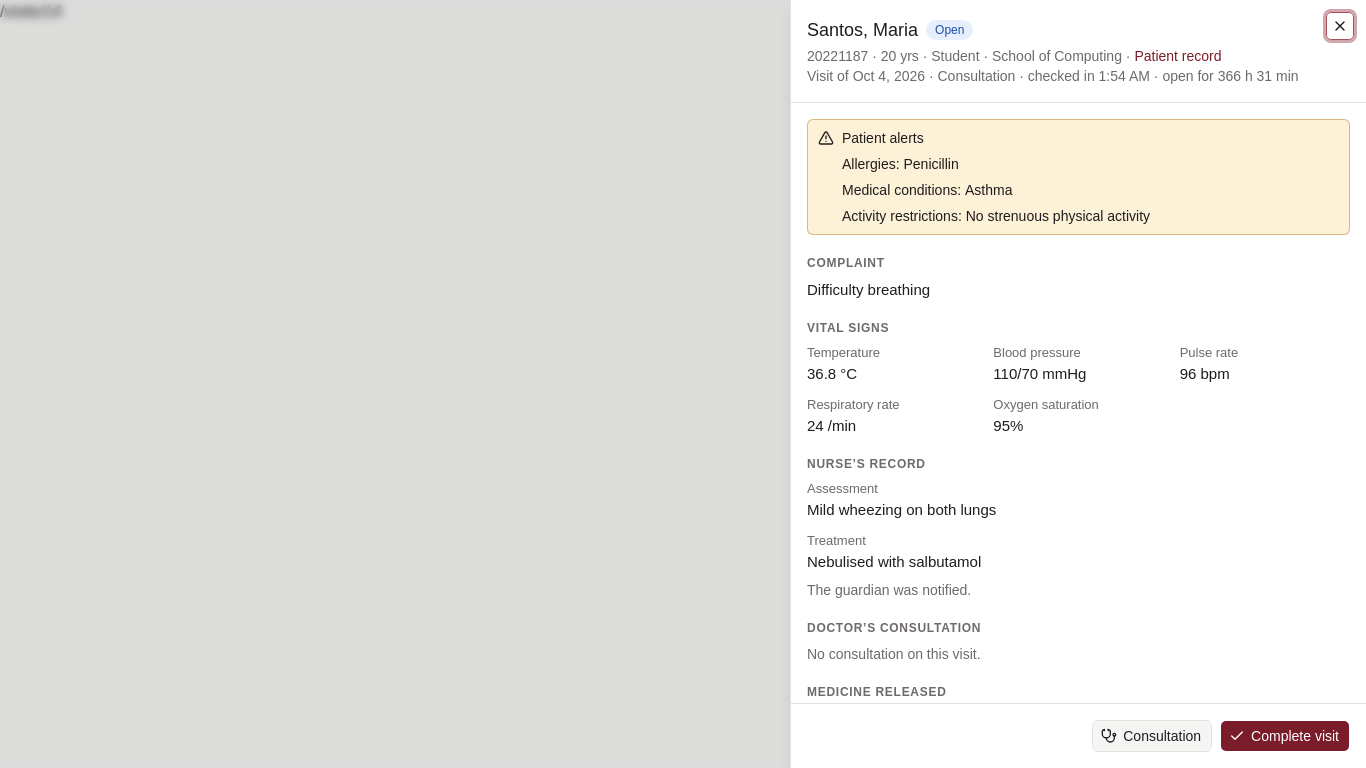
Test: the doctor writes the consultation and cannot edit the nurse’s record
This screenshot has width=1366, height=768.
Click the button "Consultation".
click(1152, 736)  # box [1092,720,1212,752]
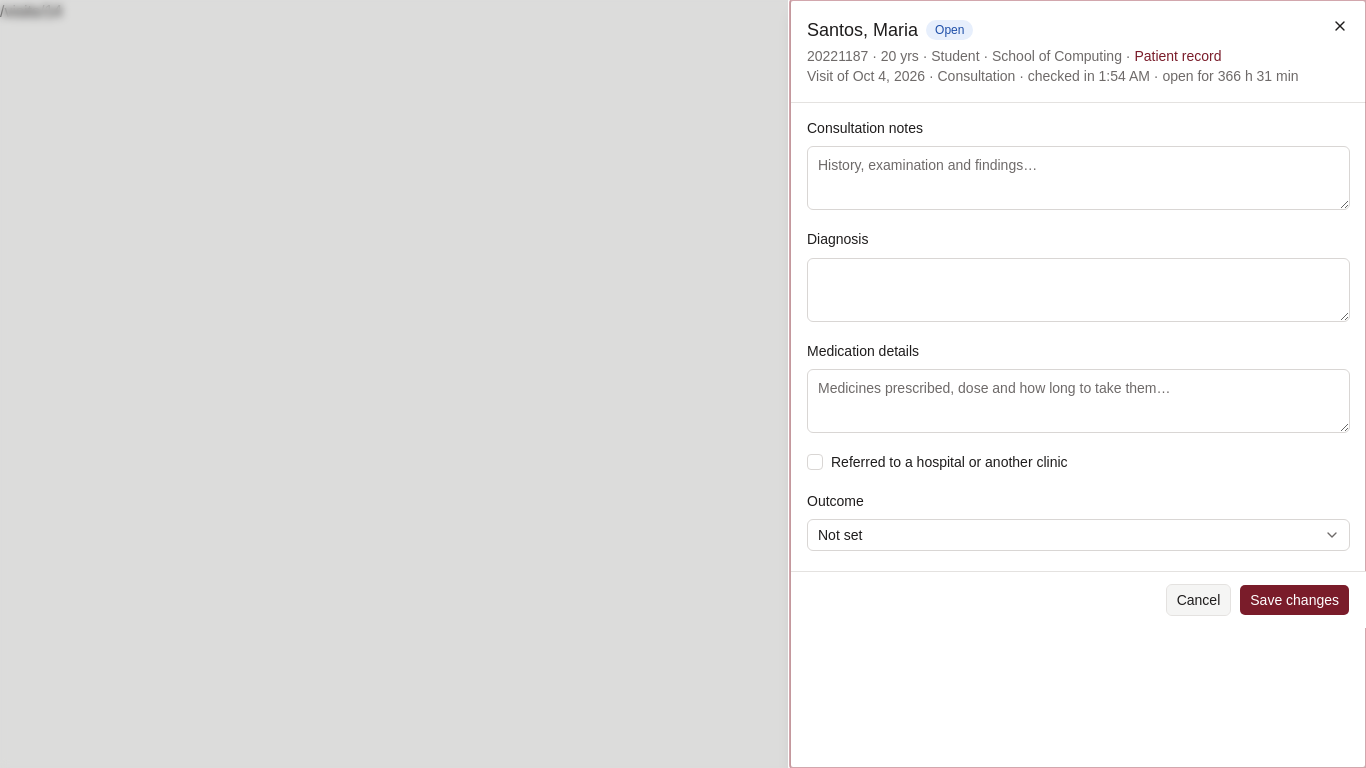
Type "Acute asthma exacerbation" into the text box labelled "Diagnosis".
click(1078, 290); type("Acute asthma exacerbation")  # box [807,258,1350,322]
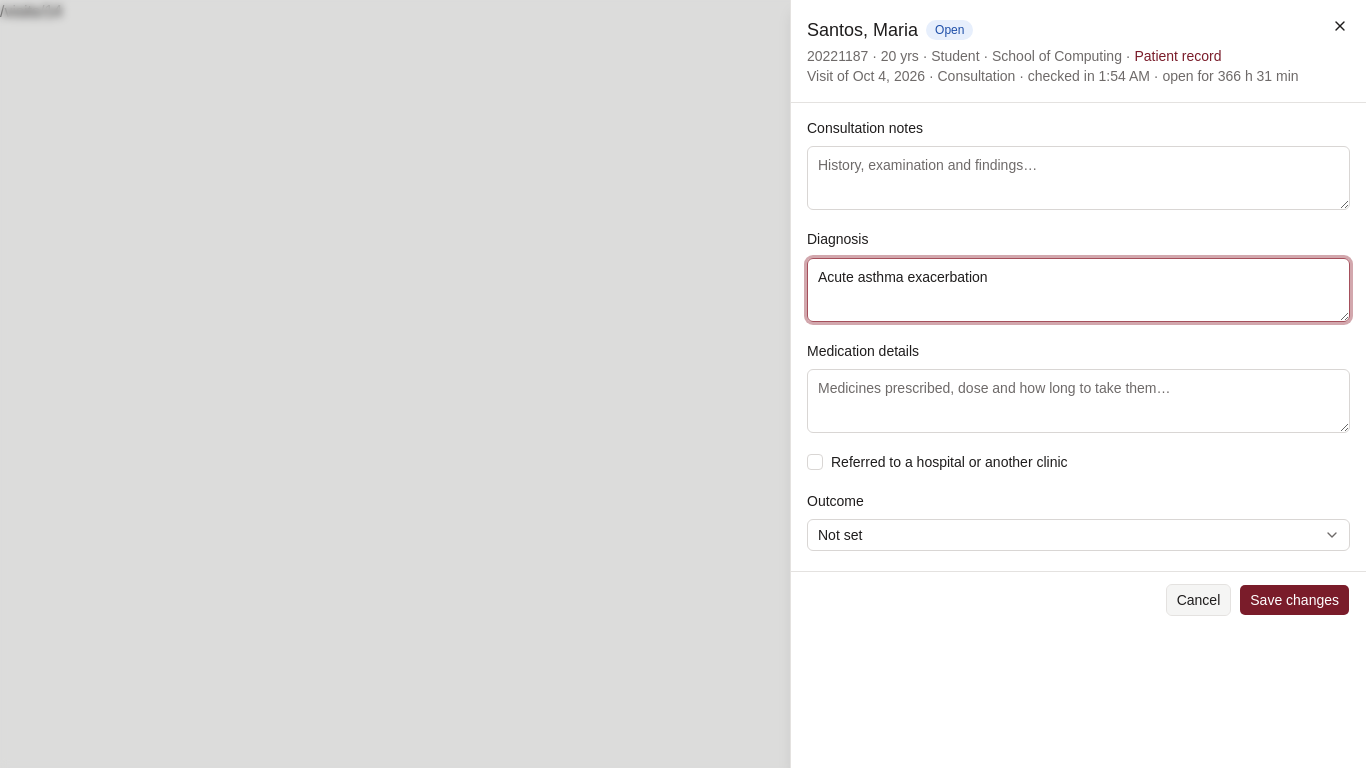
Click the checkbox named "Referred to a hospital or another clinic".
click(815, 462)  # box [807,454,823,470]
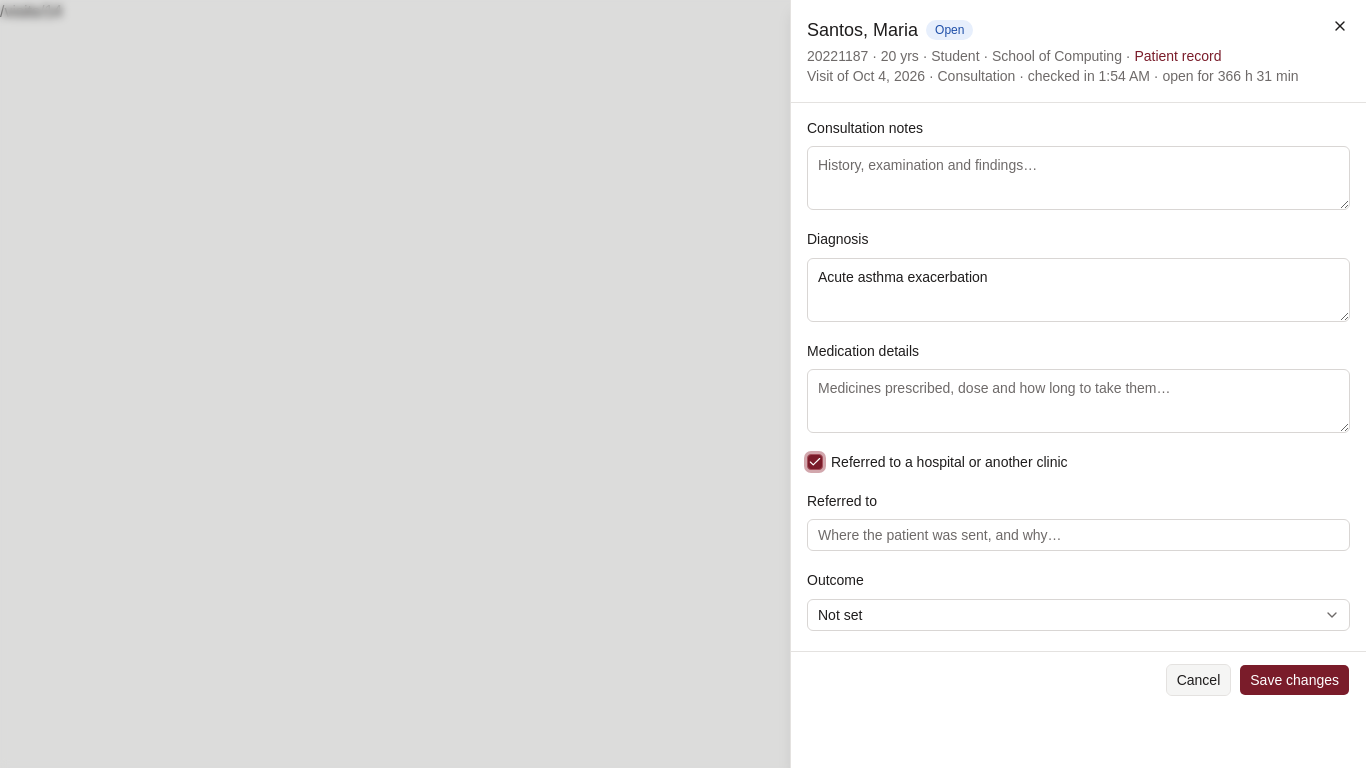
Type "Angeles Medical Center" into the field labelled "Referred to".
click(1078, 535); type("Angeles Medical Center")  # box [807,519,1350,551]
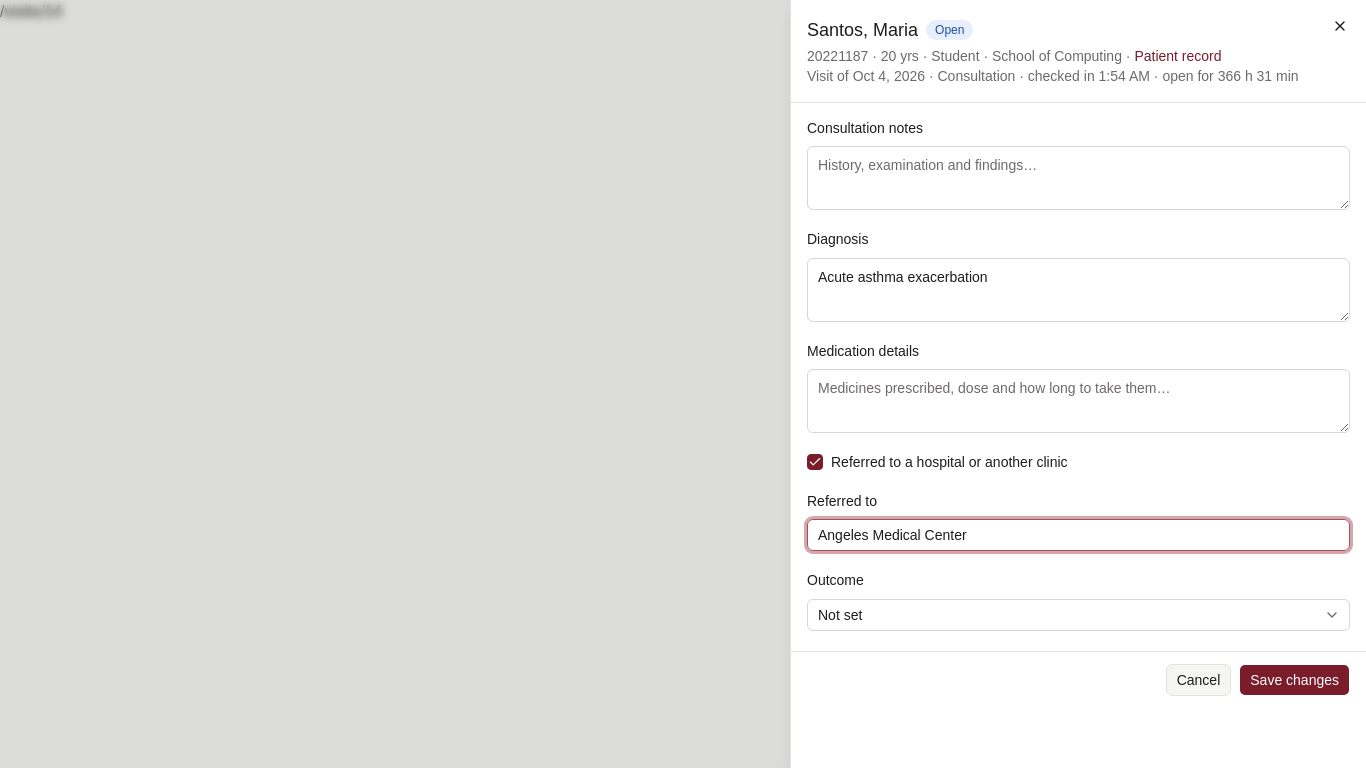
Click the button "Save changes".
click(1295, 680)  # box [1239,664,1350,696]
(page scrolled)
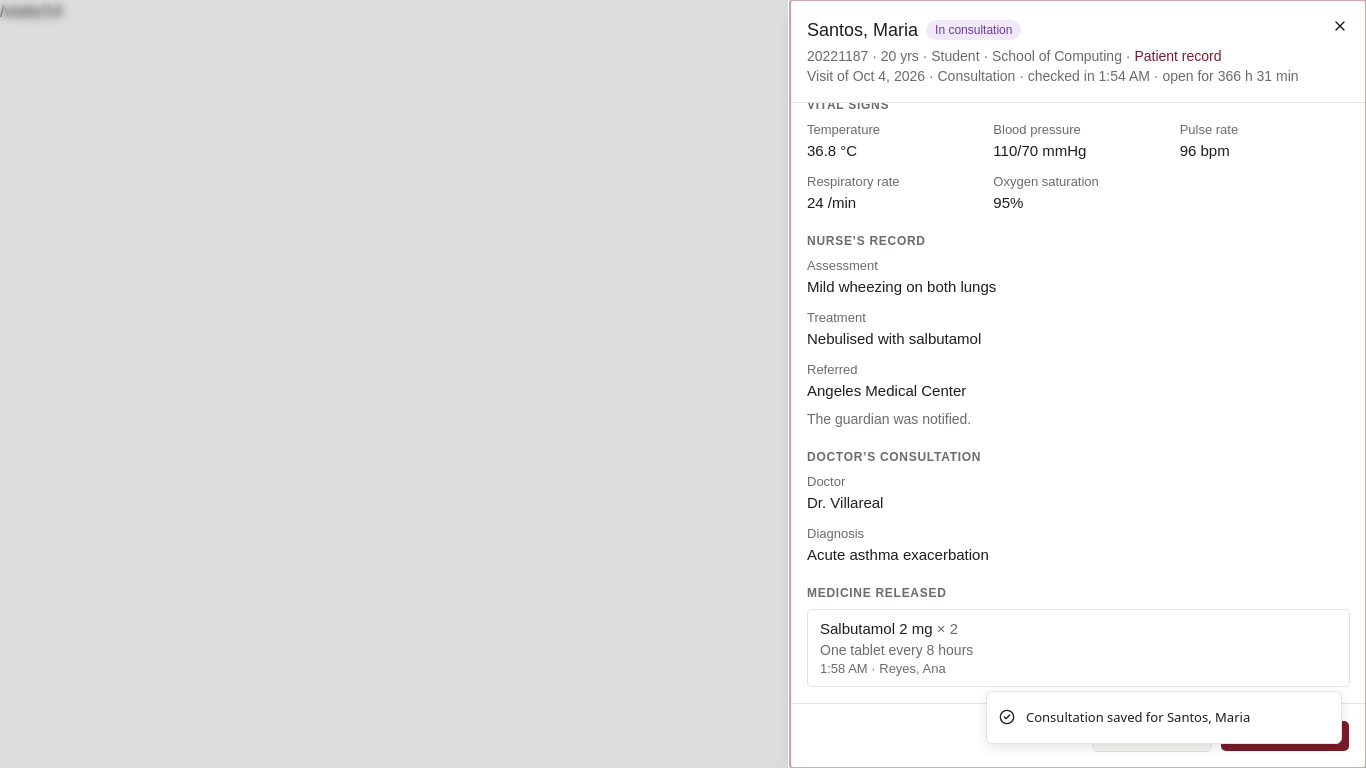
Expected: the text "Consultation saved for Santos, Maria" is shown, [1026,708,1250,727]
Expected: the text "Acute asthma exacerbation" is shown, [807,546,989,563]
